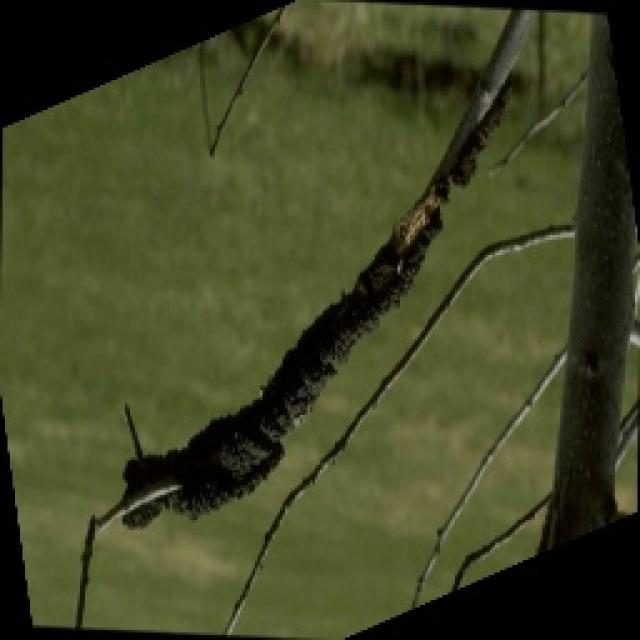Black_knot: (0, 0, 638, 638), (128, 120, 489, 537)
